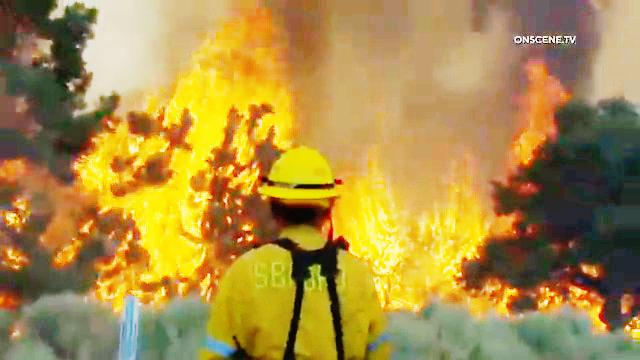fire: (82, 13, 266, 280), (350, 156, 477, 308)
smoke: (312, 4, 502, 136)
